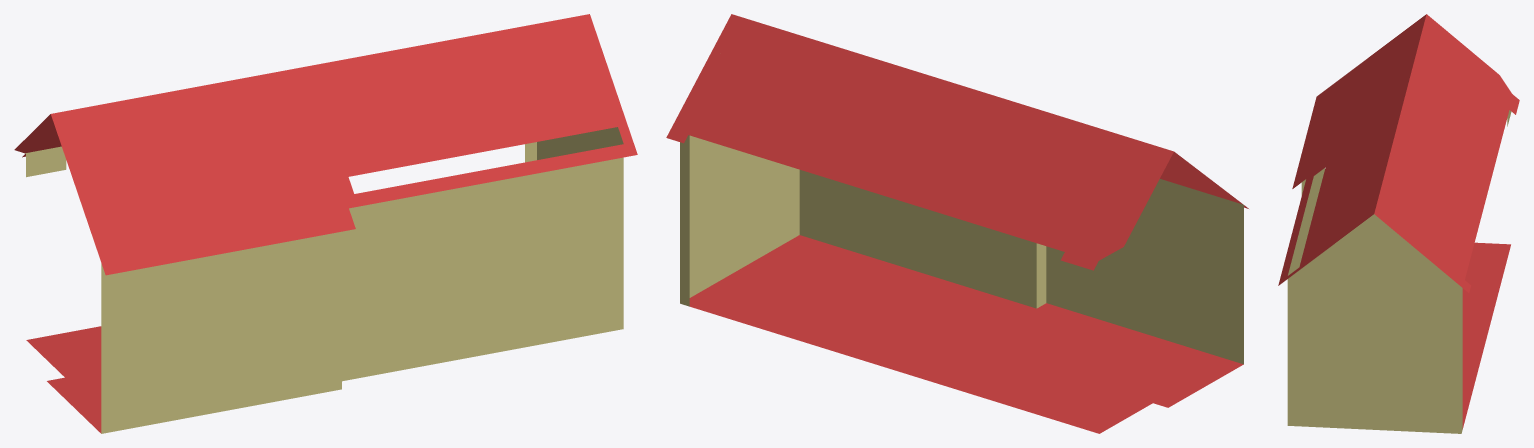
3 renders of one model, left to right at view 1: azimuth 30°, elevation 25°; view 2: azimuth 150°, elevation 25°; view 3: azimuth 270°, elevation 25°, orthographic. The views are drawn at different scales.
Bounding box in the file's own units: 28.89 × 14.07 × 14.1.
